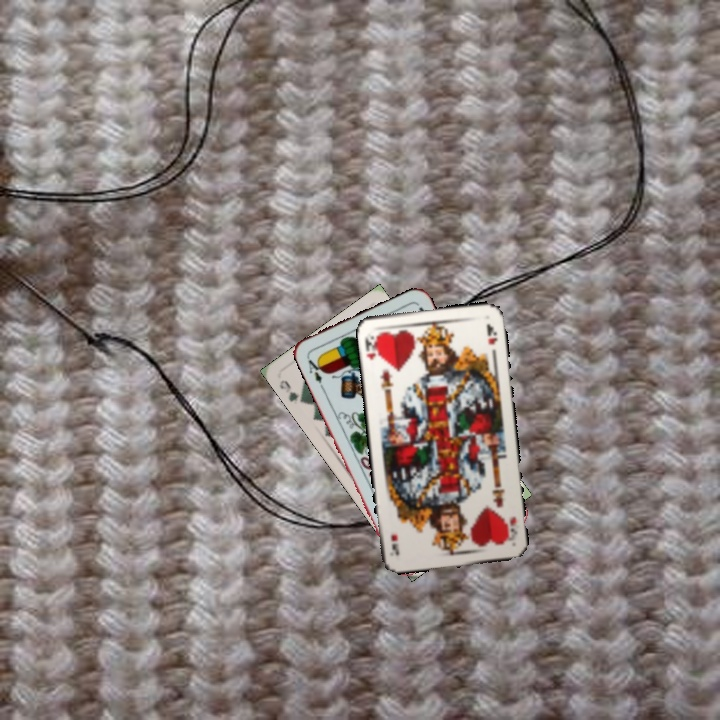EA: (303, 353, 327, 391)
G9: (275, 376, 309, 407)
HK: (361, 331, 382, 362), (501, 512, 520, 541)
